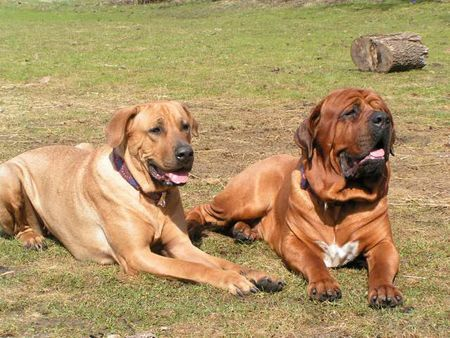tosa_inu: (0, 99, 287, 297), (182, 86, 406, 310)
